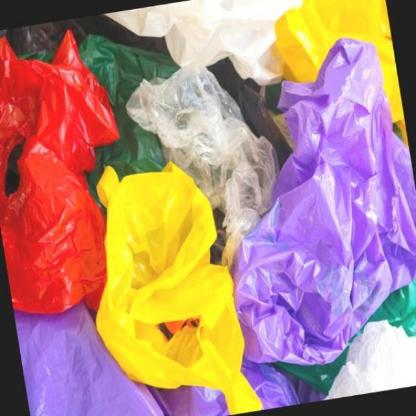Plastic Bag: (236, 37, 416, 362), (96, 156, 262, 416), (0, 30, 112, 314), (129, 68, 273, 270)
